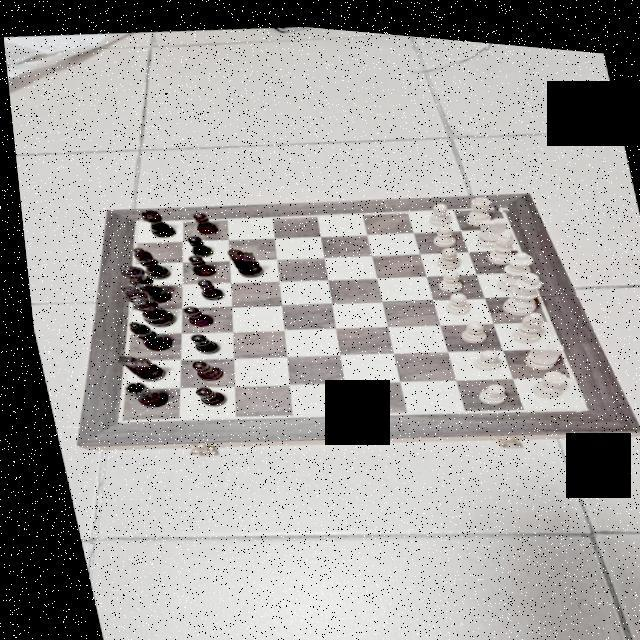chess-table-corners: (565, 392, 587, 405), (122, 216, 140, 227), (488, 194, 505, 205), (102, 414, 120, 424)
